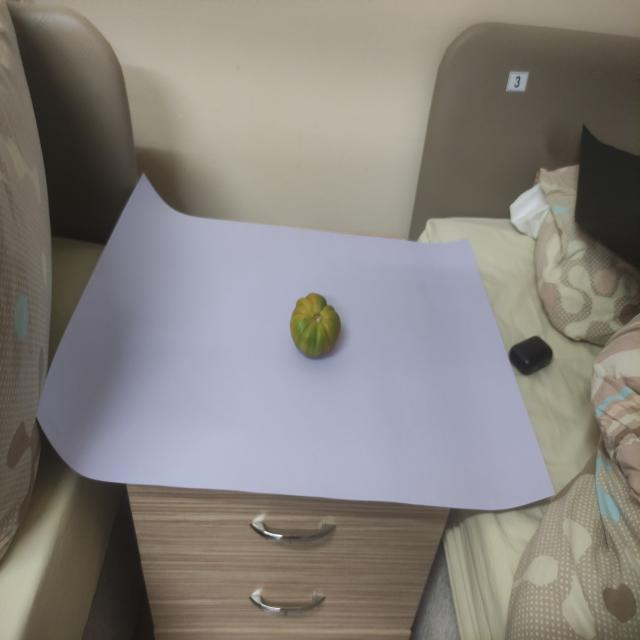yesil: (274, 288, 350, 370)
